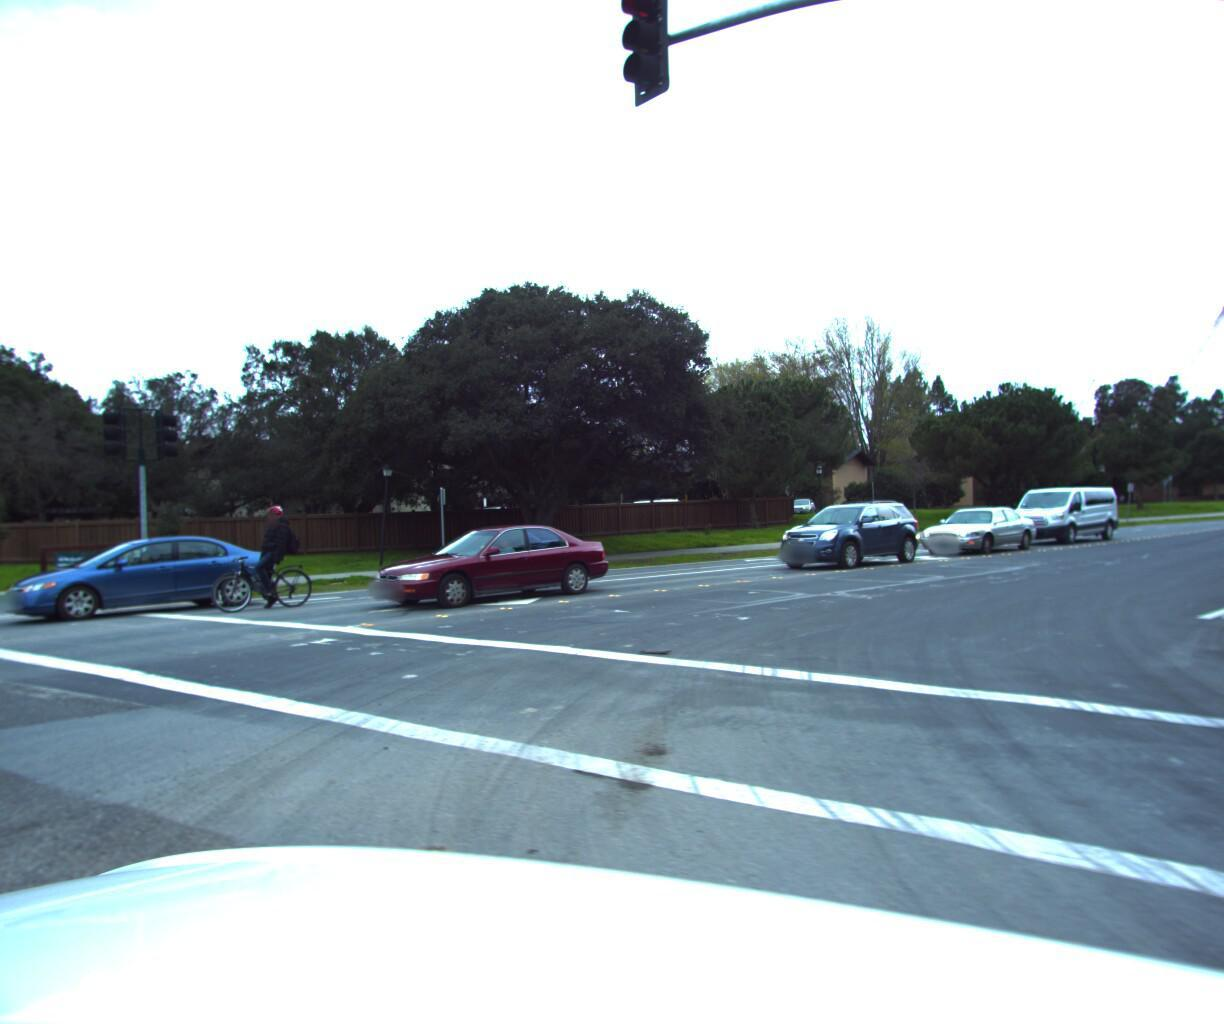bicycle: (194, 500, 329, 611)
car: (354, 519, 624, 614), (0, 529, 251, 628), (769, 496, 927, 568), (998, 479, 1122, 540), (912, 500, 1036, 553), (789, 491, 818, 508)
